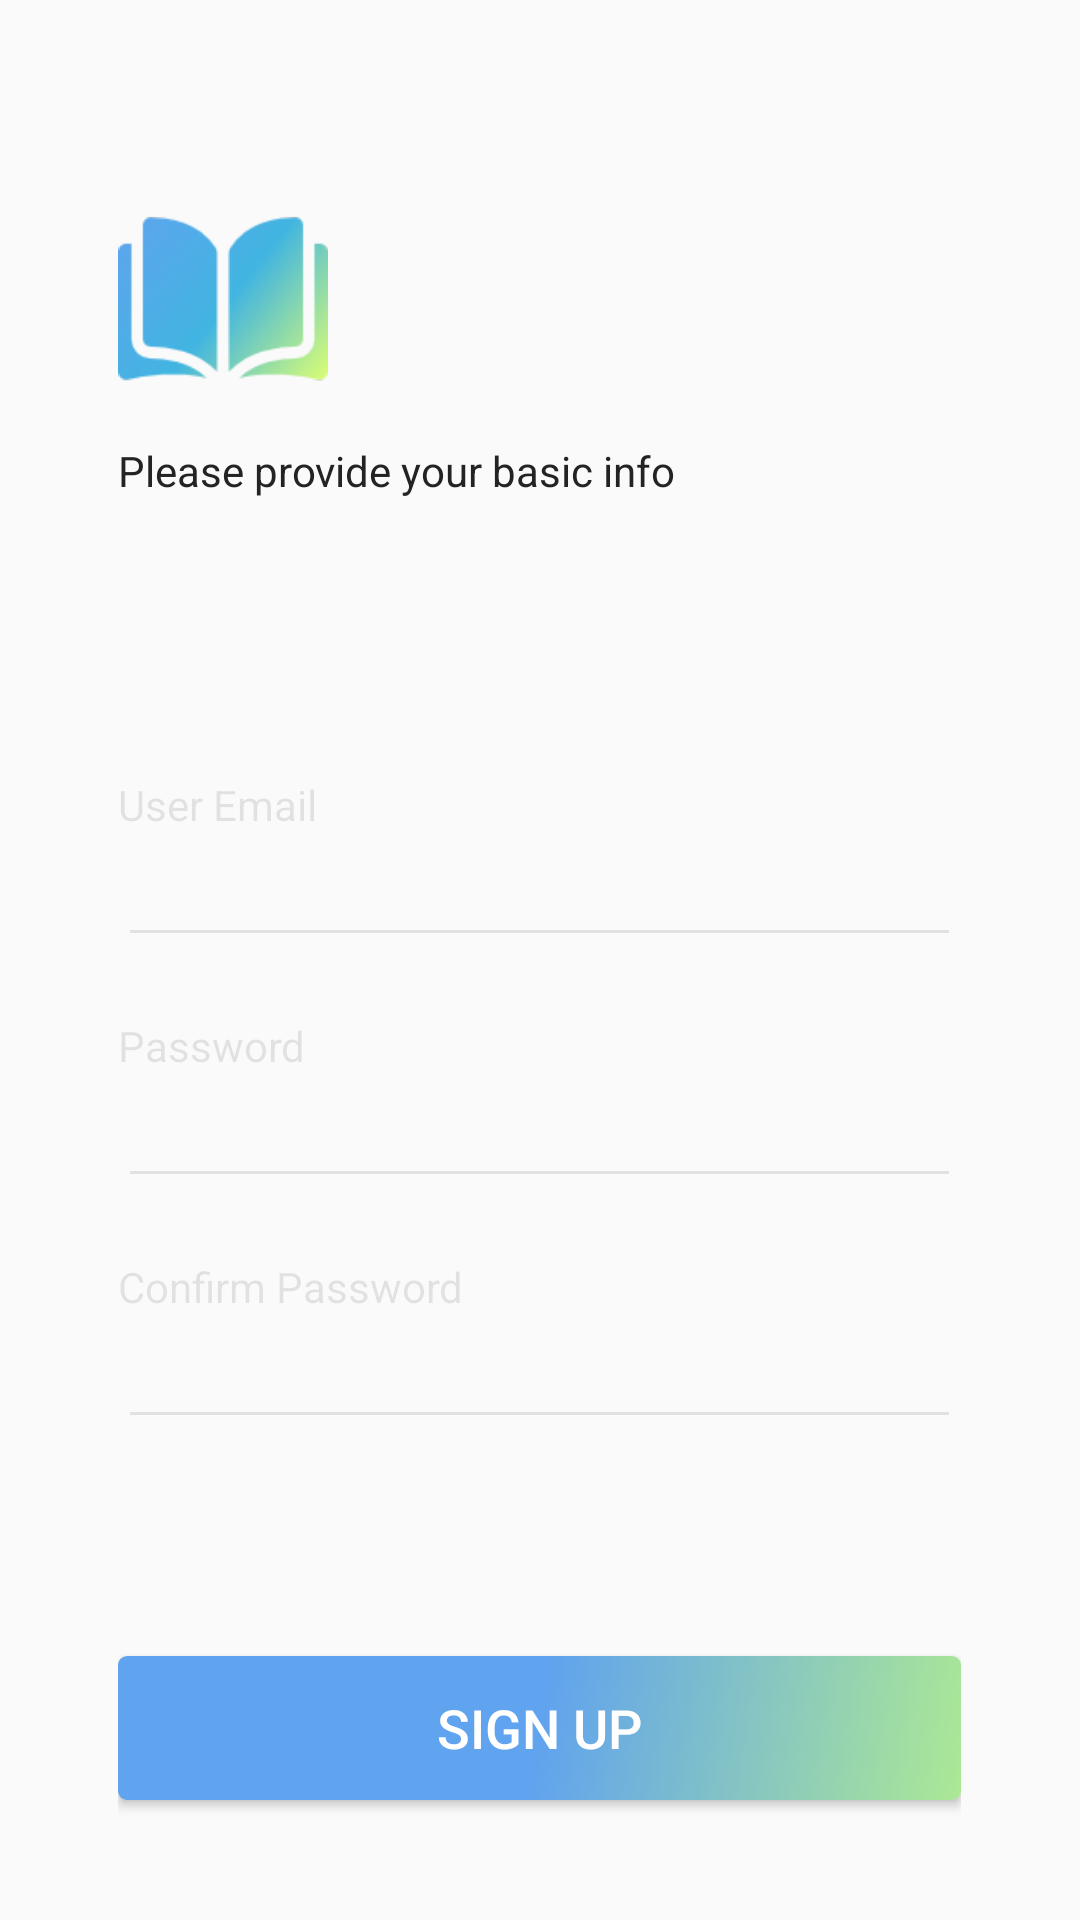

Named icons in this screenshot (1080*1920) and their centers, (x=x, y=y):
book: (x=223, y=299)
